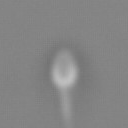normal: (57, 89, 77, 128)
